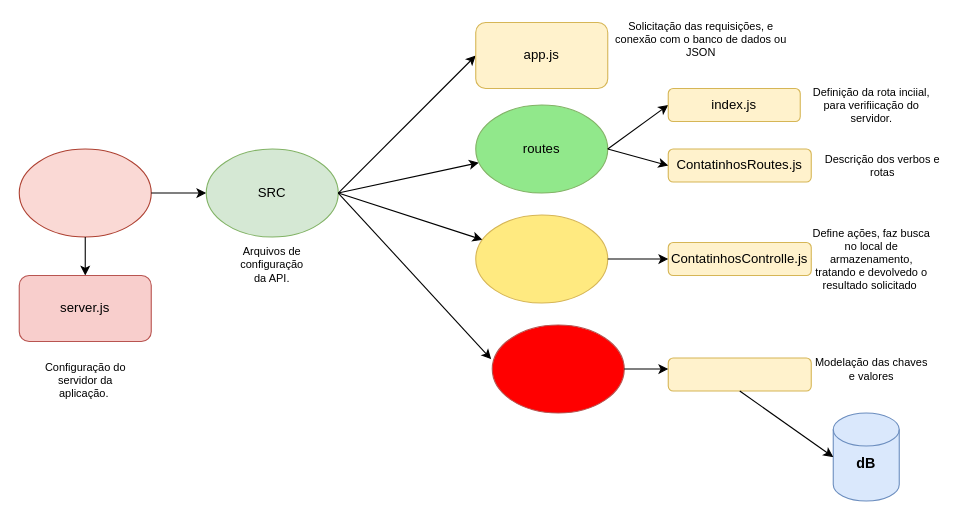
Some shapes in this 963 by 520 pixel diagram are drawn without their labels. Here are the shapes that lost their labels. From the top down, the centre of each, then its label:
point (84, 192): BIN
point (541, 258): controller
point (557, 368): models
point (739, 374): ContatinhosModels.js
